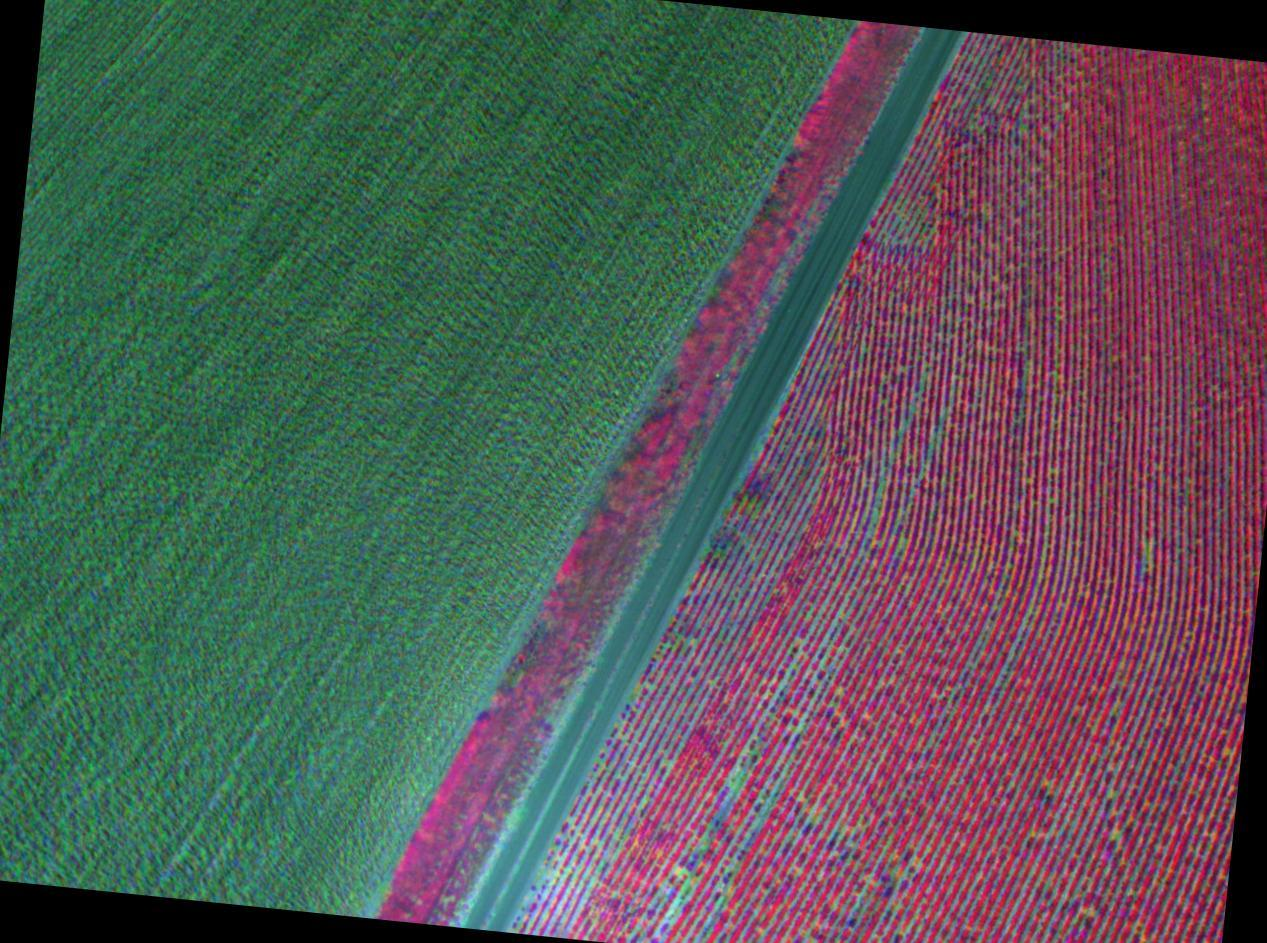dc: (731, 784, 737, 789), (1020, 125, 1025, 130), (1117, 834, 1121, 838)
